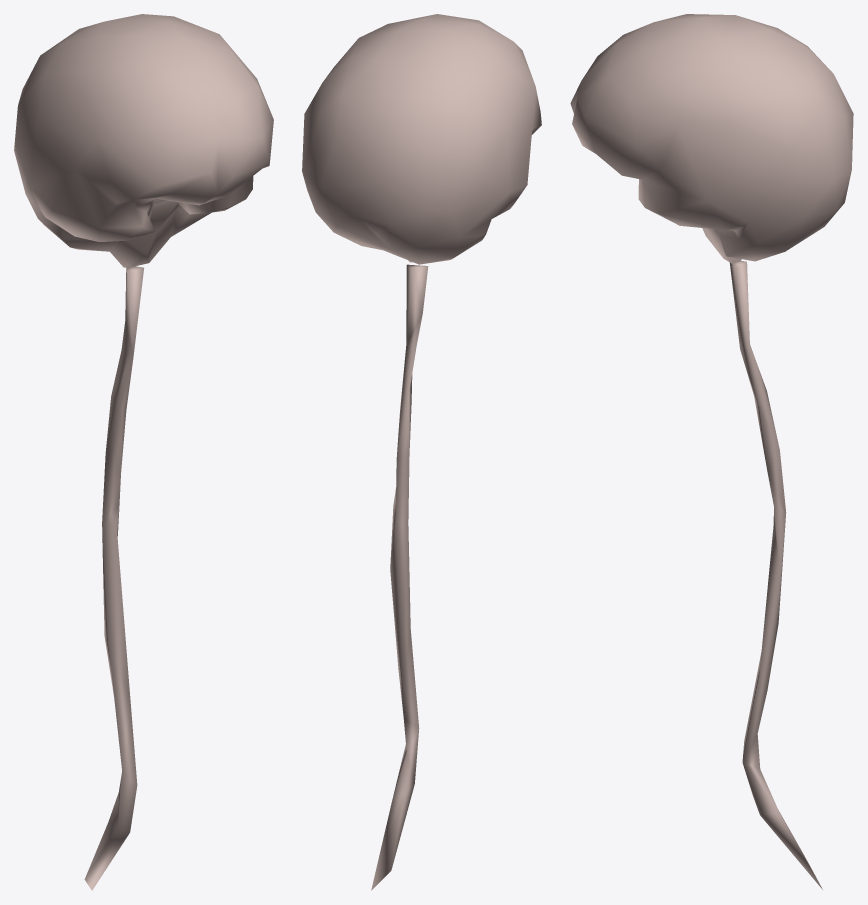
Rendered from pediatric_child_5y_male.nervous.LOD3.glb.
3 renders of one model, left to right at view 1: azimuth 30°, elevation 25°; view 2: azimuth 150°, elevation 25°; view 3: azimuth 270°, elevation 25°, orthographic. The views are drawn at different scales.
Parts seen in each view (by area): view 1: PEDIATRIC.CHILD_5Y.MALE.NERVOUS.BRAIN, PEDIATRIC.CHILD_5Y.MALE.NERVOUS.SPINAL_CORD; view 2: PEDIATRIC.CHILD_5Y.MALE.NERVOUS.BRAIN, PEDIATRIC.CHILD_5Y.MALE.NERVOUS.SPINAL_CORD; view 3: PEDIATRIC.CHILD_5Y.MALE.NERVOUS.BRAIN, PEDIATRIC.CHILD_5Y.MALE.NERVOUS.SPINAL_CORD.
Boxes of the visible parts, <box> form: PEDIATRIC.CHILD_5Y.MALE.NERVOUS.BRAIN: <box>14,14,273,267</box>; PEDIATRIC.CHILD_5Y.MALE.NERVOUS.SPINAL_CORD: <box>84,266,143,890</box>; PEDIATRIC.CHILD_5Y.MALE.NERVOUS.BRAIN: <box>302,14,541,264</box>; PEDIATRIC.CHILD_5Y.MALE.NERVOUS.SPINAL_CORD: <box>371,264,428,890</box>; PEDIATRIC.CHILD_5Y.MALE.NERVOUS.BRAIN: <box>570,14,853,263</box>; PEDIATRIC.CHILD_5Y.MALE.NERVOUS.SPINAL_CORD: <box>729,260,822,889</box>.
Size of the model in its own units: 0.1283 by 0.5313 by 0.1578.
